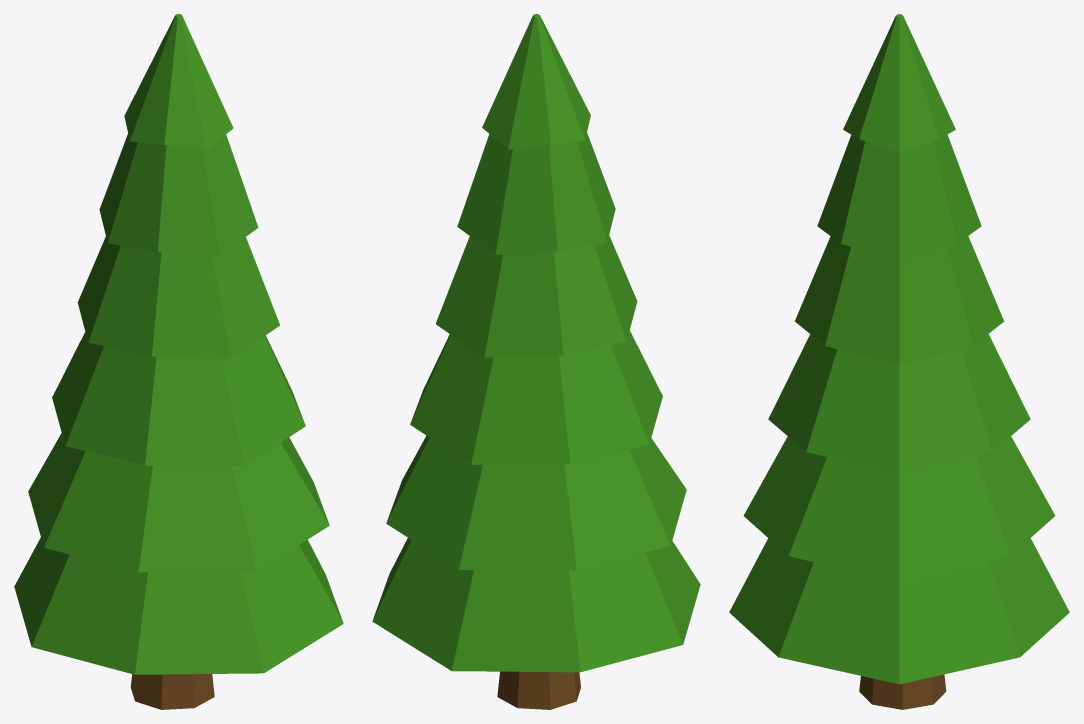
File: Tree1.fbx
The picture shows the model from 3 angles, left to right: view 1: azimuth 30°, elevation 25°; view 2: azimuth 150°, elevation 25°; view 3: azimuth 270°, elevation 25°; orthographic projection.
Visible parts, largest first — view 1: Leaves, Berk; view 2: Leaves, Berk; view 3: Leaves, Berk.
Boxes of the visible parts, box(x1,y1,x2,y2) form: Leaves: box(14, 14, 343, 674); Berk: box(130, 674, 214, 709); Leaves: box(372, 14, 700, 672); Berk: box(497, 671, 580, 709); Leaves: box(729, 14, 1069, 684); Berk: box(859, 674, 946, 709).
Bounding box in the file's own units: 313 × 687 × 313.
